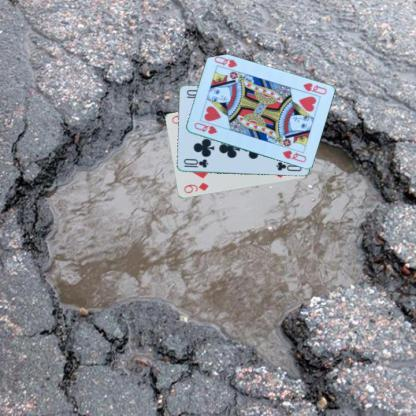10c: (181, 156, 209, 169)
9d: (181, 180, 210, 194)
Qh: (300, 80, 328, 96), (192, 120, 219, 136)
